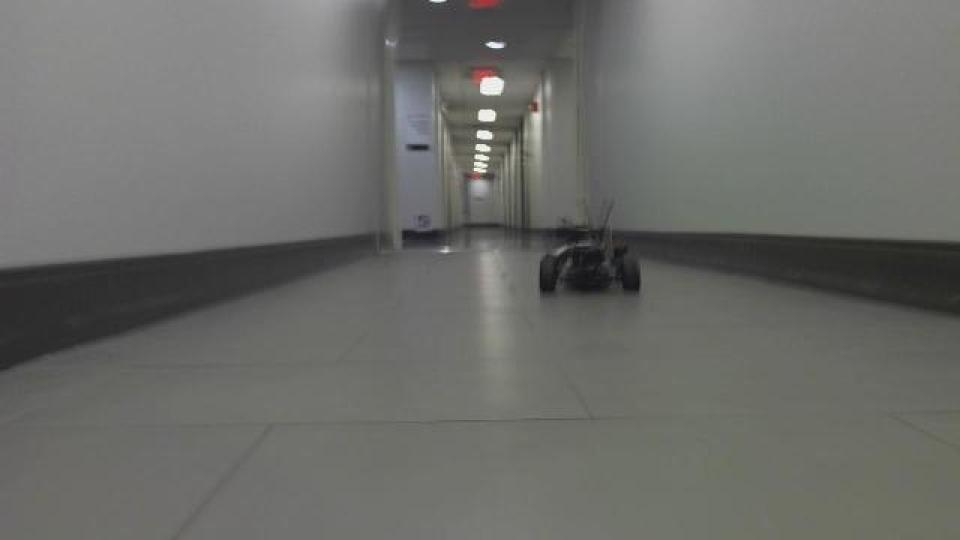car: (534, 197, 644, 297)
